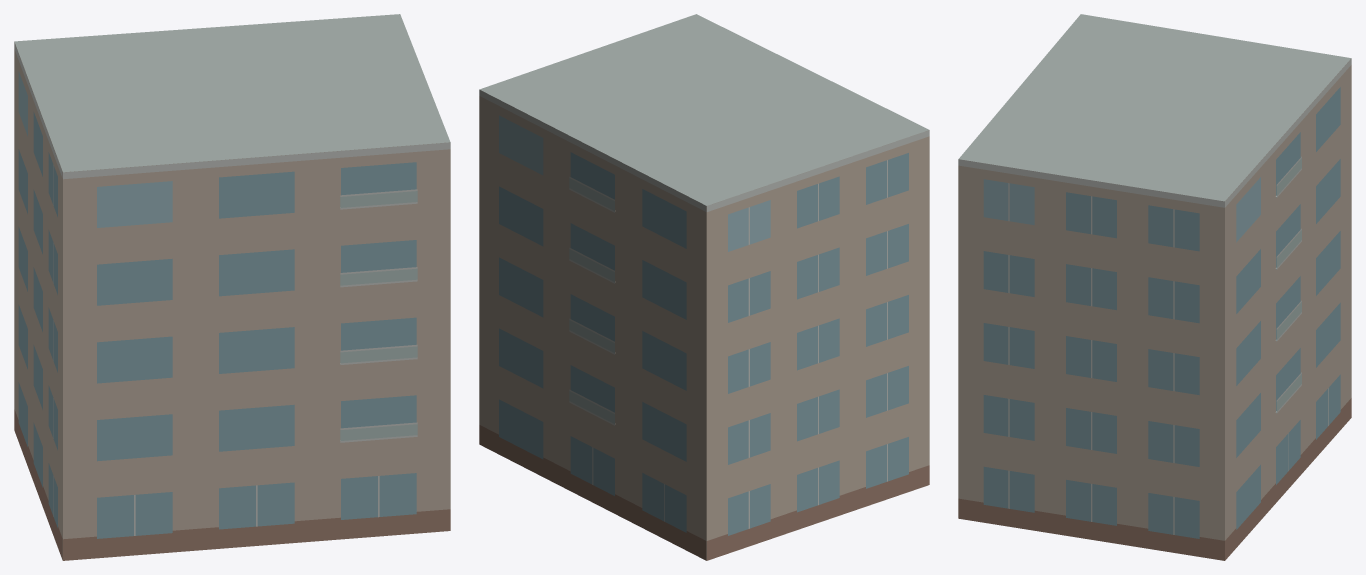
The model's file is survey-upis-32527390.glb.
3 renders of one model, left to right at view 1: azimuth 30°, elevation 25°; view 2: azimuth 150°, elevation 25°; view 3: azimuth 270°, elevation 25°, orthographic. The views are drawn at different scales.
Visible parts, largest first — view 1: survey-upis-32527390.tmp; view 2: survey-upis-32527390.tmp; view 3: survey-upis-32527390.tmp.
Part boxes in pixels (x1,y1,x2,y2): survey-upis-32527390.tmp: (14, 14, 450, 560); survey-upis-32527390.tmp: (479, 14, 929, 560); survey-upis-32527390.tmp: (958, 14, 1351, 560).
Size of the model in its own units: 15.29 by 13.66 by 13.55.
